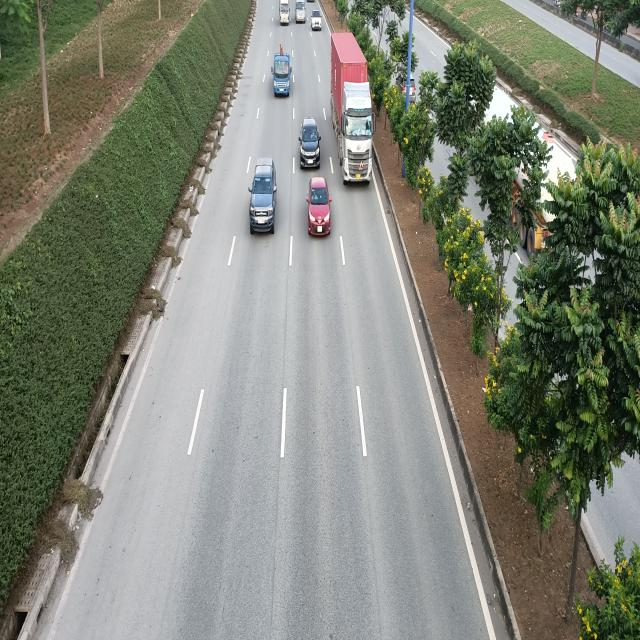car: (250, 161, 280, 236), (307, 174, 332, 235), (299, 118, 322, 170)
container: (332, 36, 377, 188)
truck: (272, 41, 291, 95)
van: (295, 1, 306, 25)
